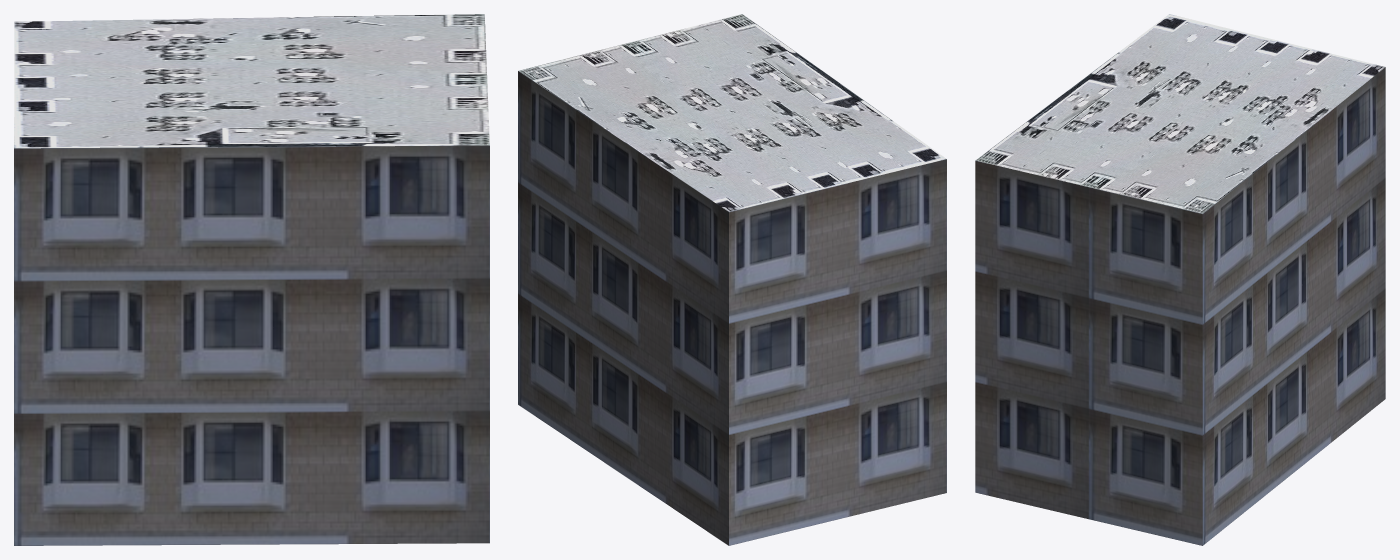
File: ResTex__3792.fbx
The picture shows the model from 3 angles, left to right: view 1: azimuth 30°, elevation 25°; view 2: azimuth 150°, elevation 25°; view 3: azimuth 270°, elevation 25°; orthographic projection. The views are drawn at different scales.
Visible parts, largest first — view 1: CityEngineMaterial_3_m, CityEngineMaterial_m; view 2: CityEngineMaterial_3_m, CityEngineMaterial_m; view 3: CityEngineMaterial_3_m, CityEngineMaterial_m.
Part boxes in pixels (x1=…): CityEngineMaterial_3_m: x1=14, y1=145, x2=489, y2=545; CityEngineMaterial_m: x1=14, y1=14, x2=489, y2=148; CityEngineMaterial_3_m: x1=518, y1=71, x2=946, y2=545; CityEngineMaterial_m: x1=518, y1=14, x2=946, y2=211; CityEngineMaterial_3_m: x1=975, y1=67, x2=1385, y2=545; CityEngineMaterial_m: x1=975, y1=14, x2=1384, y2=213.
Size of the model in its own units: 11.62 by 9 by 10.08.
2 materials, 2 textured.
